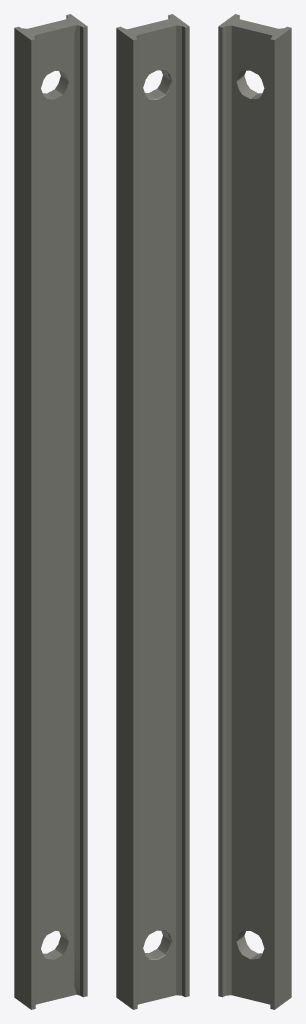
The model's file is metal_rod_med_01.fbx.
3 renders of one model, left to right at view 1: azimuth 30°, elevation 25°; view 2: azimuth 210°, elevation 25°; view 3: azimuth 330°, elevation 25°, orthographic.
Visible parts, largest first — view 1: metal_rod_med_01; view 2: metal_rod_med_01; view 3: metal_rod_med_01.
Boxes of the visible parts, x1,y1,x2,y2 form: metal_rod_med_01: (14, 14, 87, 1009); metal_rod_med_01: (116, 14, 189, 1009); metal_rod_med_01: (218, 14, 291, 1009).
Size of the model in its own units: 21.05 by 345 by 11.05.
